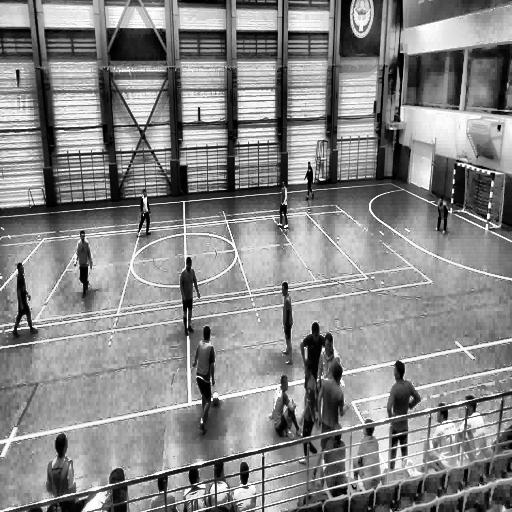ball: (212, 392, 218, 406)
player: (387, 360, 420, 464), (300, 320, 322, 452), (193, 325, 215, 433), (46, 432, 77, 505), (271, 372, 300, 442), (12, 262, 38, 338), (180, 256, 198, 336), (74, 231, 93, 299), (280, 280, 294, 360), (137, 187, 152, 237), (276, 179, 288, 229), (434, 195, 448, 234), (304, 160, 315, 200)
